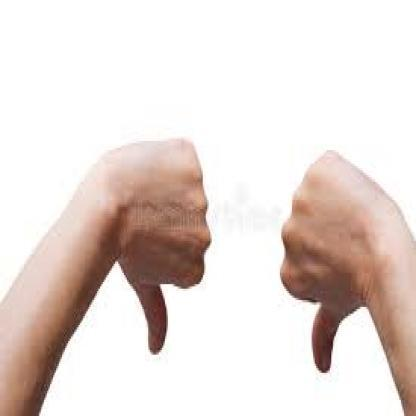thumb_down: (95, 132, 218, 358), (275, 142, 375, 374)
